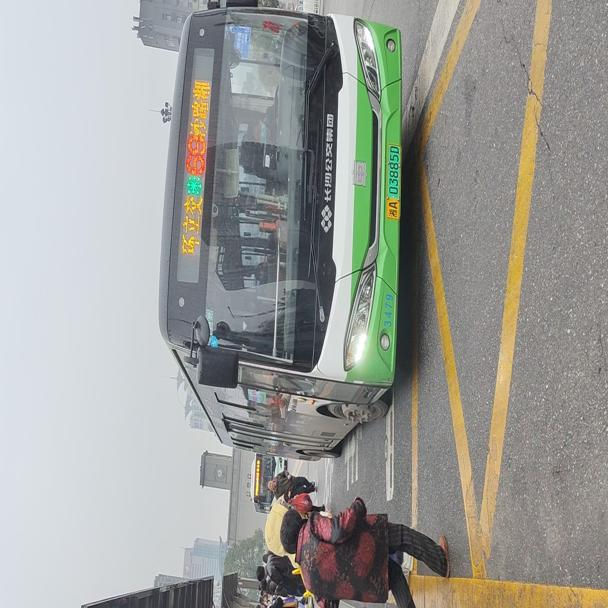bus: (157, 9, 400, 456), (248, 445, 276, 514)
screen: (183, 139, 208, 175)
